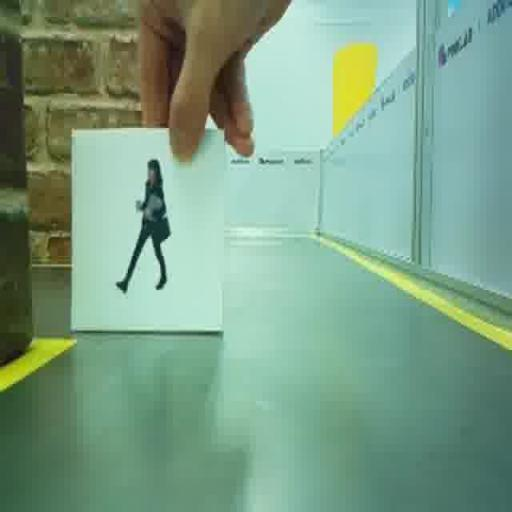human: (116, 159, 170, 292)
